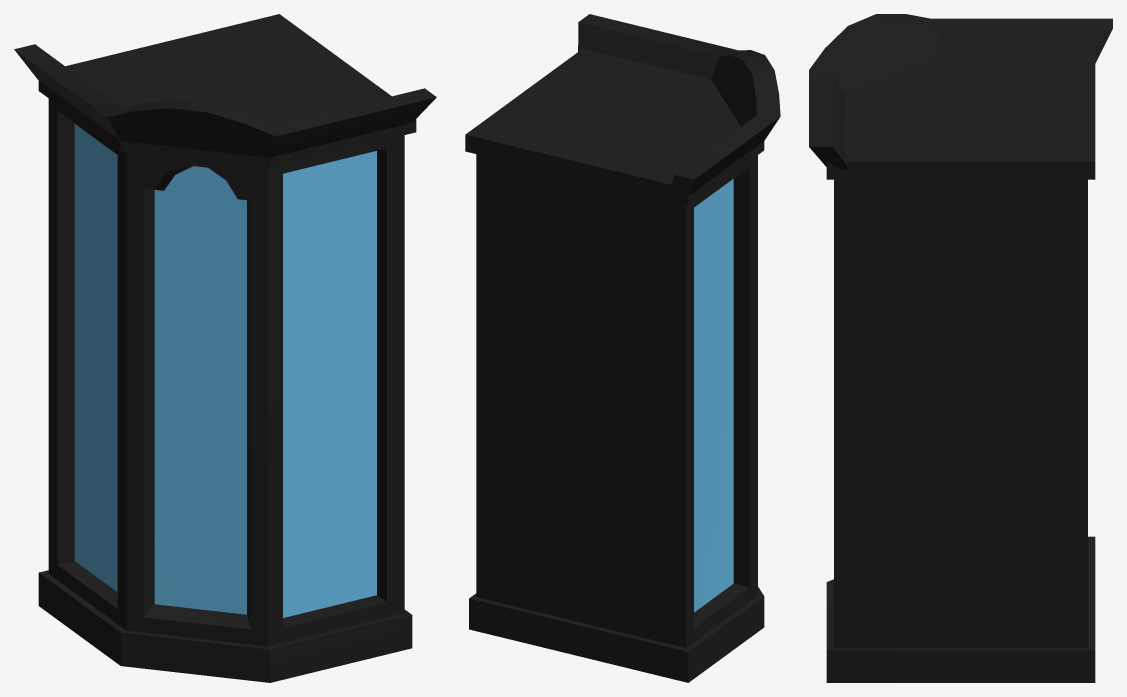
The model's file is closet_001.glb.
3 renders of one model, left to right at view 1: azimuth 30°, elevation 25°; view 2: azimuth 150°, elevation 25°; view 3: azimuth 270°, elevation 25°, orthographic. The views are drawn at different scales.
Parts seen in each view (by area): view 1: closet_001; view 2: closet_001; view 3: closet_001.
Boxes of the visible parts, x1=… form: closet_001: x1=14, y1=14, x2=436, y2=682; closet_001: x1=465, y1=14, x2=780, y2=682; closet_001: x1=809, y1=14, x2=1112, y2=682.
Size of the model in its own units: 1.04 by 2.13 by 1.04.
1 material, 1 textured.
